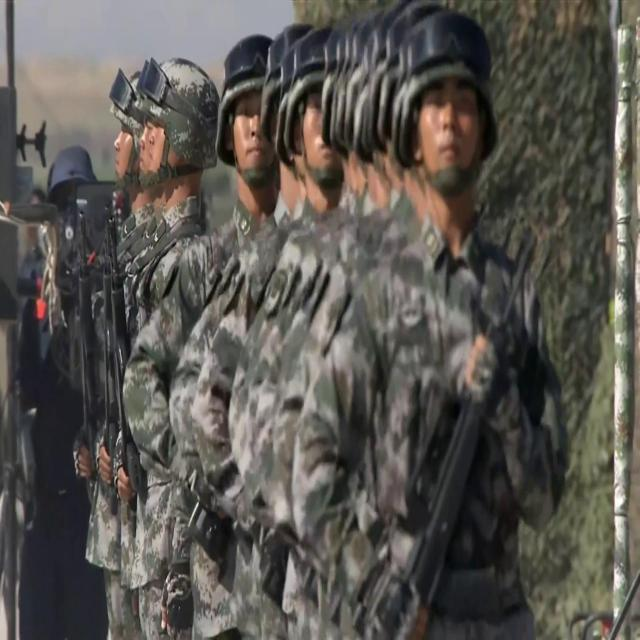Soldier: (288, 12, 565, 640), (142, 55, 216, 243), (216, 33, 277, 225)
